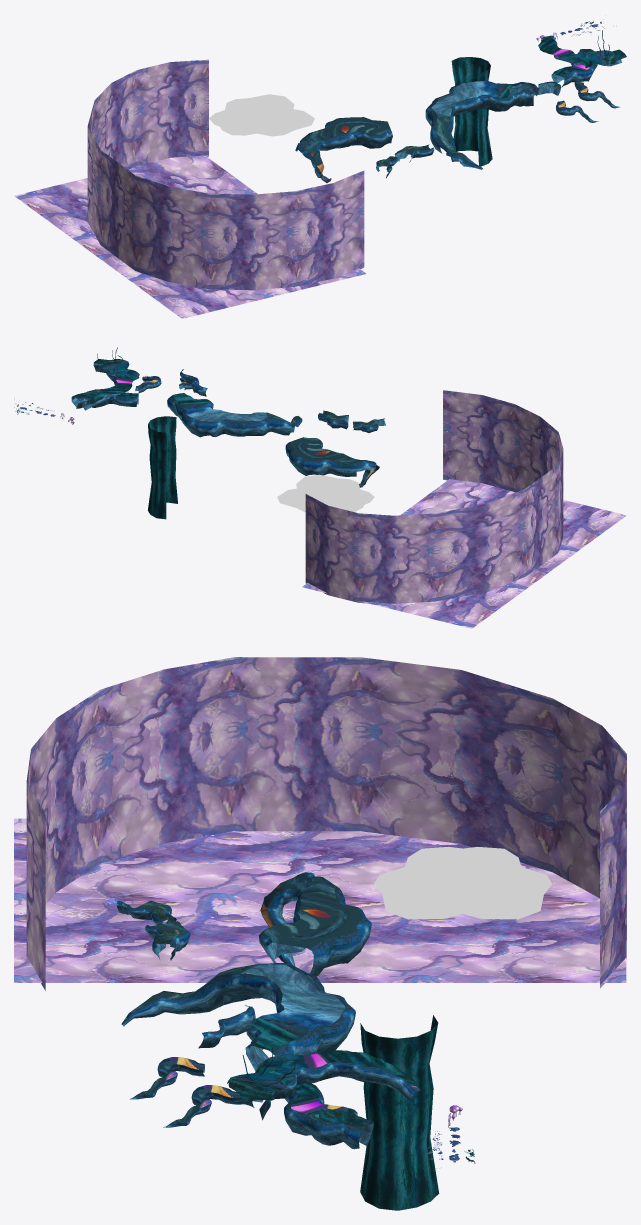
Rendered from f_2301_floor01_2303.FBX.
3 views of the same model, one above another, from view 1: azimuth 30°, elevation 25°; view 2: azimuth 150°, elevation 25°; view 3: azimuth 270°, elevation 25° (orthographic). The views are drawn at different scales.
Parts seen in each view (by area): view 1: d_2301_background01, d_2301_background02, f_2301_floo001, f_2301_trunk01, f_2301_floor08_1, f_2301_floor08, f_2301_floor04, f_2301_floor04_1, f_2301_floor07, f_2301_floor10_1; view 2: d_2301_background01, d_2301_background02, f_2301_trunk01, f_2301_floo001, f_2301_floor08_1, f_2301_floor04_1, f_2301_floor08, f_2301_floor07, f_2301_floor04, f_2301_floor10_1; view 3: d_2301_background01, d_2301_background02, f_2301_trunk01, f_2301_floo001, f_2301_floor08_1, f_2301_floor08, f_2301_floor04, f_2301_floor04_1, f_2301_floor07, f_2301_floor07_1, f_2301_floor10_1, f_2301_floor10.
Boxes of the visible parts, bbox=[...] form: d_2301_background01: bbox=[87, 59, 364, 290]; d_2301_background02: bbox=[14, 155, 366, 318]; f_2301_floo001: bbox=[209, 94, 314, 136]; f_2301_trunk01: bbox=[451, 57, 492, 166]; f_2301_floor08_1: bbox=[425, 80, 534, 169]; f_2301_floor08: bbox=[431, 81, 523, 168]; f_2301_floor04: bbox=[302, 117, 390, 182]; f_2301_floor04_1: bbox=[295, 117, 392, 182]; f_2301_floor07: bbox=[538, 35, 626, 67]; f_2301_floor10_1: bbox=[551, 49, 597, 87]; d_2301_background01: bbox=[305, 390, 563, 603]; d_2301_background02: bbox=[302, 479, 626, 628]; f_2301_trunk01: bbox=[148, 416, 177, 519]; f_2301_floo001: bbox=[277, 474, 374, 512]; f_2301_floor08_1: bbox=[167, 393, 302, 437]; f_2301_floor04_1: bbox=[285, 438, 379, 487]; f_2301_floor08: bbox=[173, 393, 299, 423]; f_2301_floor07: bbox=[82, 359, 139, 405]; f_2301_floor04: bbox=[289, 437, 376, 478]; f_2301_floor10_1: bbox=[71, 388, 138, 408]; d_2301_background01: bbox=[26, 657, 626, 990]; d_2301_background02: bbox=[14, 818, 626, 982]; f_2301_trunk01: bbox=[360, 1015, 439, 1210]; f_2301_floo001: bbox=[374, 846, 551, 919]; f_2301_floor08_1: bbox=[122, 963, 355, 1070]; f_2301_floor08: bbox=[121, 964, 345, 1050]; f_2301_floor04: bbox=[261, 874, 360, 963]; f_2301_floor04_1: bbox=[259, 872, 371, 976]; f_2301_floor07: bbox=[228, 1050, 420, 1102]; f_2301_floor07_1: bbox=[259, 1062, 416, 1120]; f_2301_floor10_1: bbox=[284, 1084, 373, 1149]; f_2301_floor10: bbox=[290, 1083, 369, 1127].
Size of what is drawn, in the model's own units: 42201 by 9253 by 22392.
